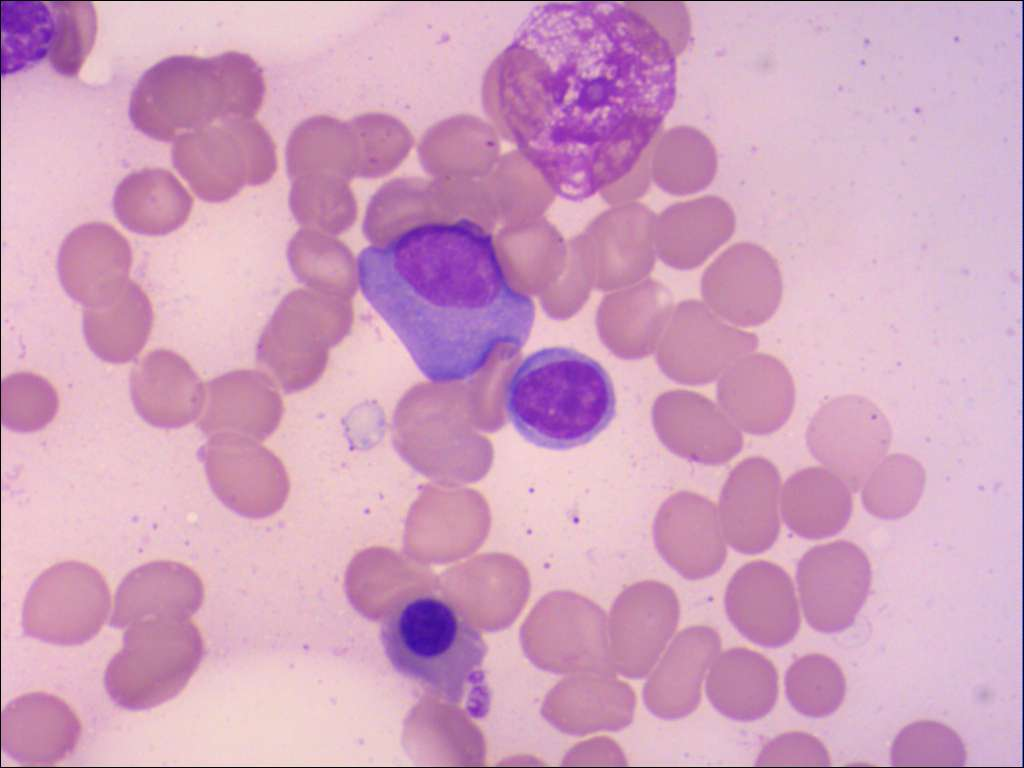24: (374, 585, 485, 704)
32: (503, 341, 620, 456)
51: (350, 210, 538, 390)
x: (492, 1, 679, 205), (1, 1, 59, 84)
